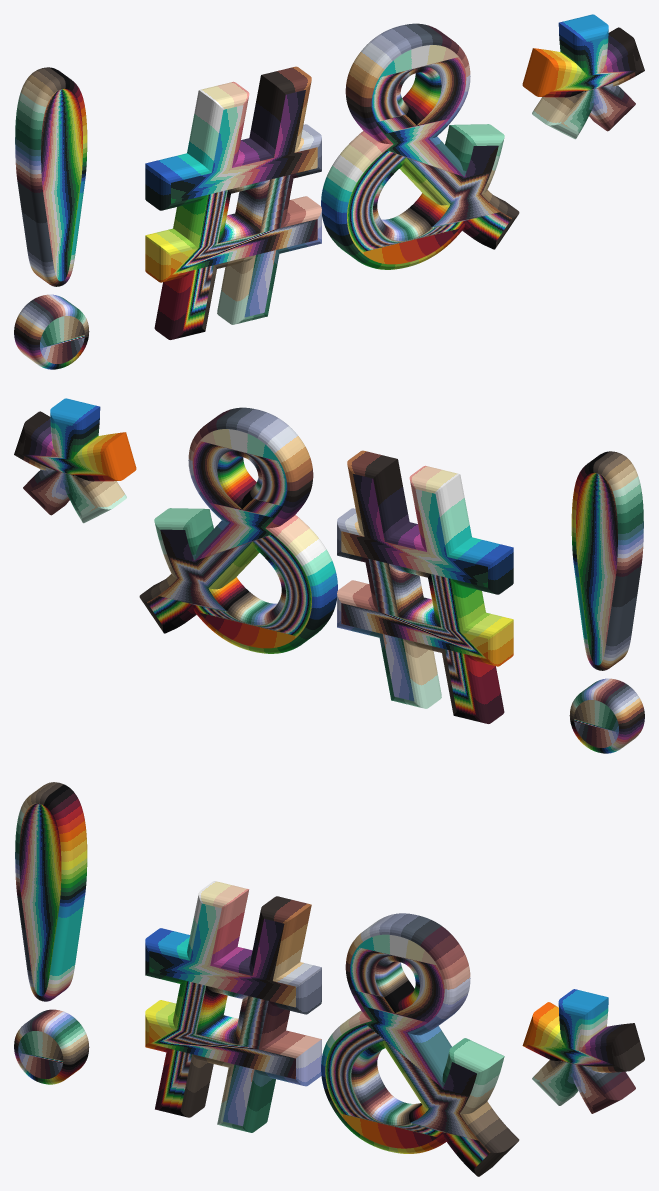
Rendered from PunctuationMarks.fbx.
The picture shows the model from 3 angles, top to bottom: view 1: azimuth 30°, elevation 25°; view 2: azimuth 150°, elevation 25°; view 3: azimuth 330°, elevation 25°; orthographic projection.
Visible parts, largest first — view 1: Hash, Ampresand, ExclamationMark, Asterisk; view 2: Hash, Ampresand, ExclamationMark, Asterisk; view 3: Ampresand, Hash, ExclamationMark, Asterisk.
Boxes of the visible parts, left/top/right/bottom form: Hash: left=145, top=66, right=321, bottom=339; Ampresand: left=321, top=23, right=519, bottom=269; ExclamationMark: left=14, top=67, right=89, bottom=369; Asterisk: left=522, top=14, right=644, bottom=139; Hash: left=337, top=450, right=513, bottom=723; Ampresand: left=139, top=407, right=337, bottom=653; ExclamationMark: left=569, top=451, right=644, bottom=753; Asterisk: left=14, top=398, right=136, bottom=523; Ampresand: left=321, top=913, right=519, bottom=1176; Hash: left=145, top=881, right=321, bottom=1132; ExclamationMark: left=14, top=782, right=89, bottom=1084; Asterisk: left=522, top=989, right=644, bottom=1113.
Size of the model in its own units: 164 by 74.02 by 10.
